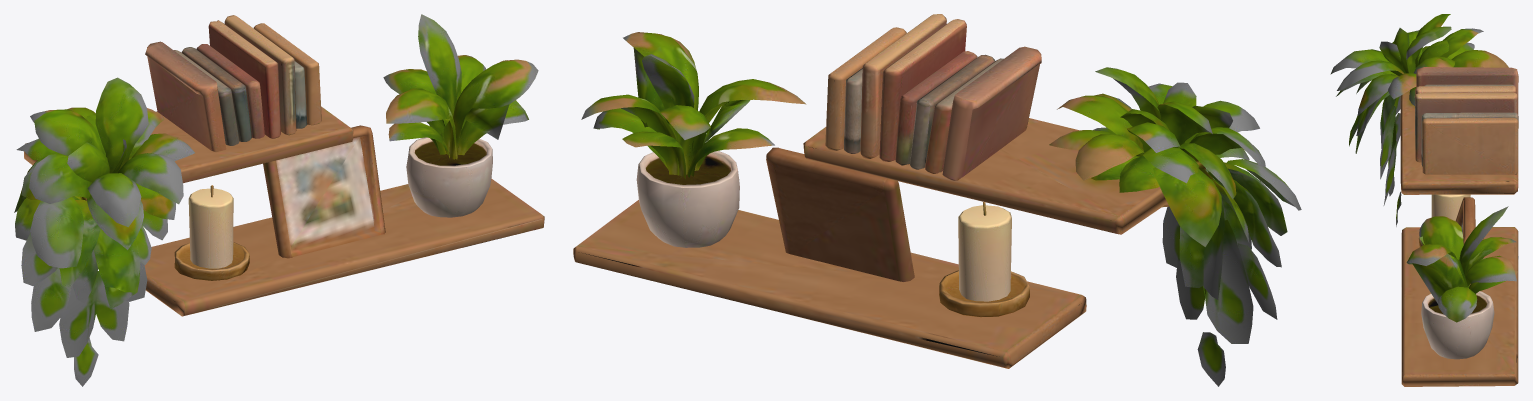
The model's file is floating_shelf.glb.
3 views of the same model, side by side, from view 1: azimuth 30°, elevation 25°; view 2: azimuth 150°, elevation 25°; view 3: azimuth 270°, elevation 25° (orthographic). The views are drawn at different scales.
Visible parts, largest first — view 1: geometry_0; view 2: geometry_0; view 3: geometry_0.
Boxes of the visible parts, left/top/right/bottom form: geometry_0: left=14, top=14, right=544, bottom=386; geometry_0: left=573, top=14, right=1301, bottom=386; geometry_0: left=1330, top=14, right=1518, bottom=386.
Bounding box in the file's own units: 1 × 0.4816 × 0.3598.
1 material, 1 textured.
